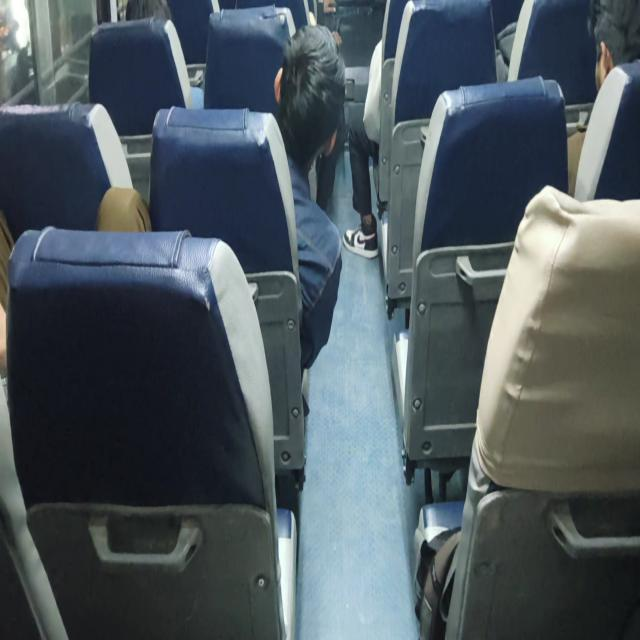person: (96, 22, 347, 373), (272, 22, 346, 374), (342, 0, 410, 259), (566, 0, 639, 197), (586, 0, 639, 92)
